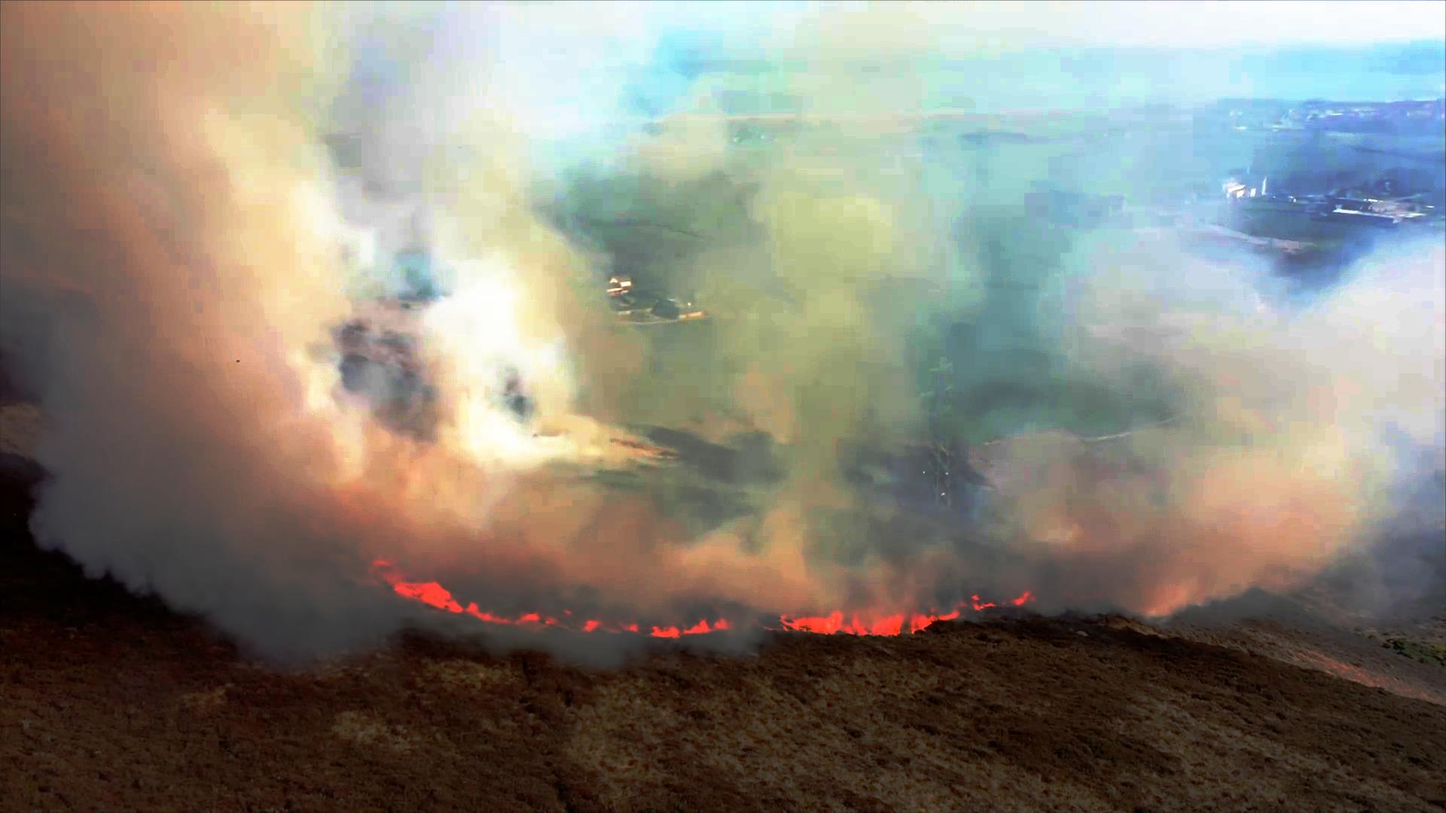fire: (388, 582, 939, 645)
smoke: (0, 0, 352, 552), (1141, 202, 1446, 601)
